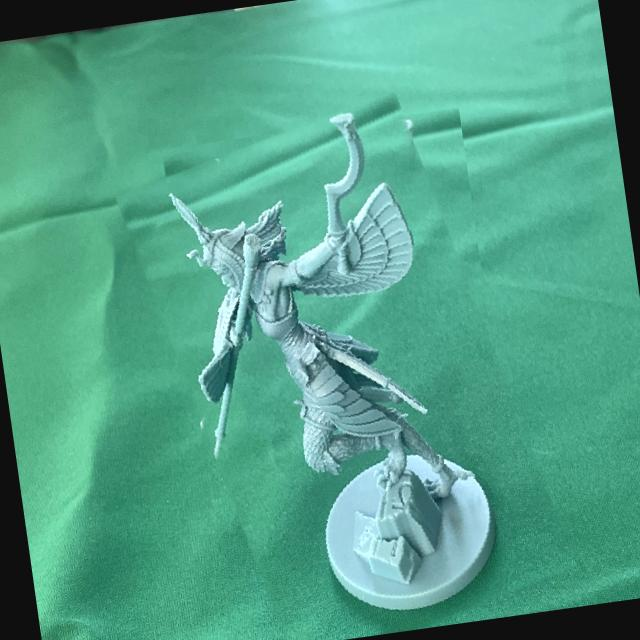isis: (134, 90, 556, 640)
